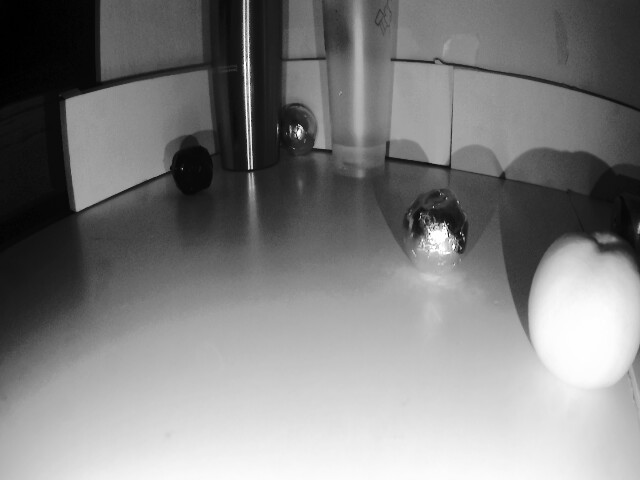black: (164, 143, 224, 201)
silver: (400, 189, 474, 273), (275, 102, 320, 155)
